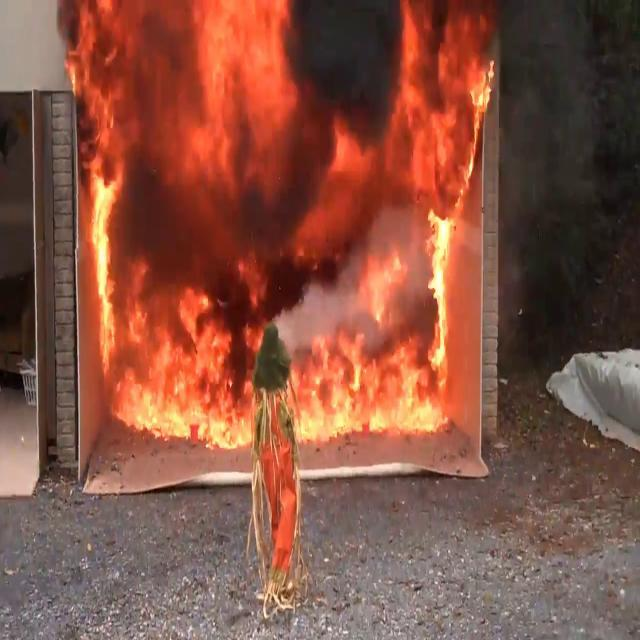Fire: (70, 1, 490, 453)
